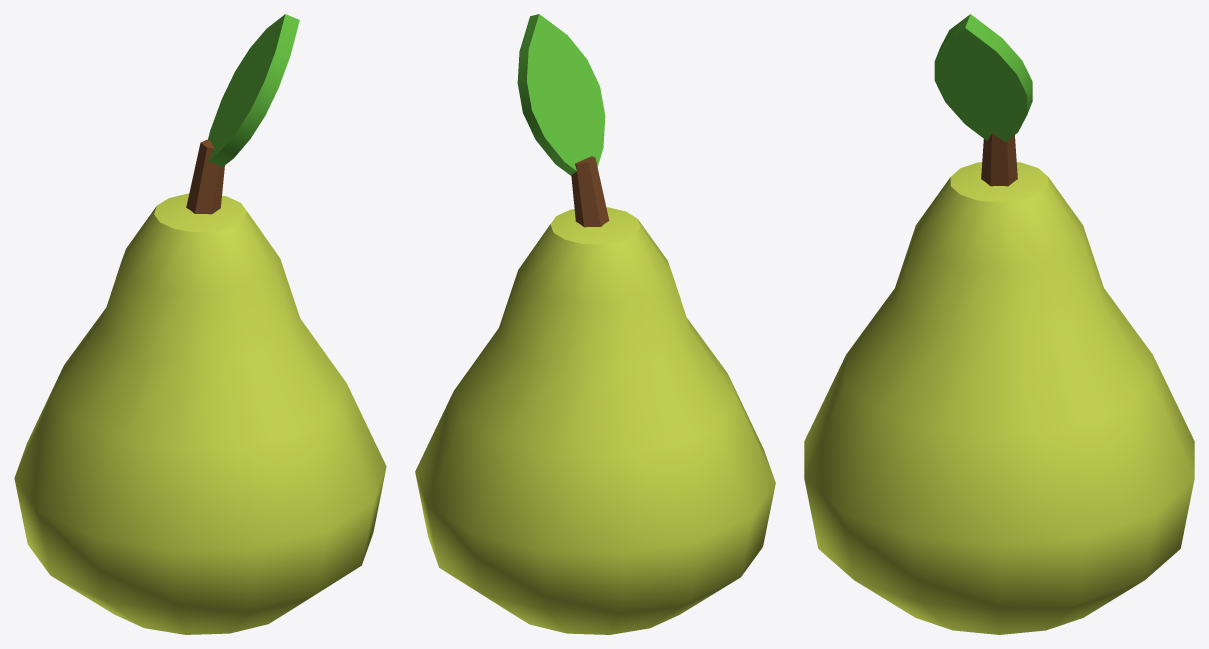
The model's file is Pear.fbx.
The picture shows the model from 3 angles, left to right: view 1: azimuth 30°, elevation 25°; view 2: azimuth 150°, elevation 25°; view 3: azimuth 270°, elevation 25°; orthographic projection. The views are drawn at different scales.
Parts seen in each view (by area): view 1: Pear; view 2: Pear; view 3: Pear.
Boxes of the visible parts, <box> form: Pear: <box>14,14,386,634</box>; Pear: <box>415,14,775,634</box>; Pear: <box>804,14,1194,634</box>.
Bounding box in the file's own units: 1.12 × 1.89 × 1.09.
1 material, 1 textured.
